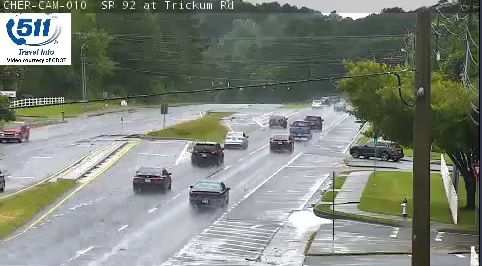car: (190, 182, 229, 206), (133, 167, 170, 190), (192, 143, 223, 165), (224, 131, 248, 147), (270, 135, 293, 151), (289, 120, 309, 137), (304, 116, 322, 130), (269, 116, 286, 127)
